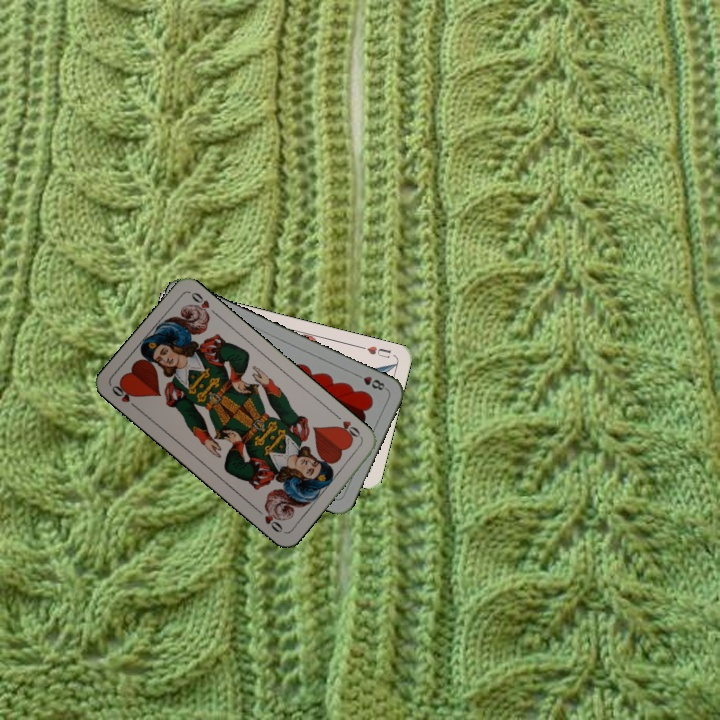H8: (351, 370, 389, 393)
HO: (108, 379, 142, 413), (331, 410, 365, 443)
HU: (356, 342, 394, 361)
